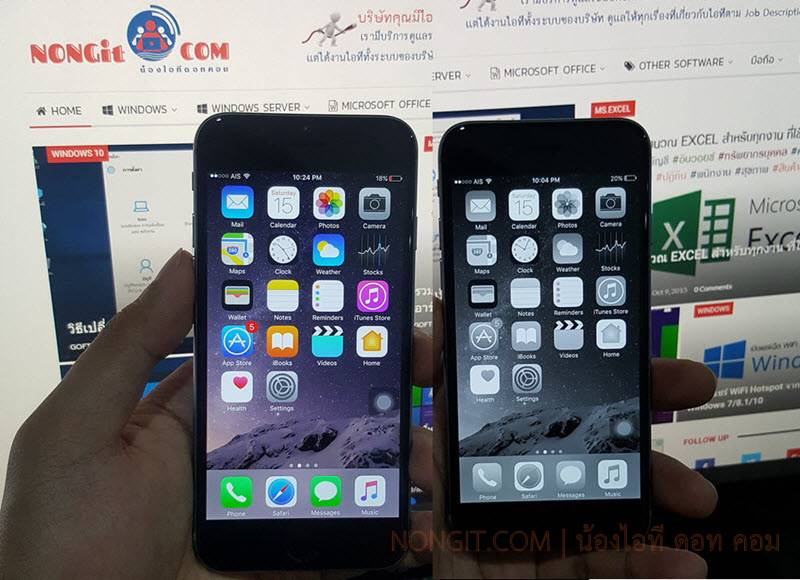Phone: (190, 110, 421, 580), (436, 118, 656, 564)
